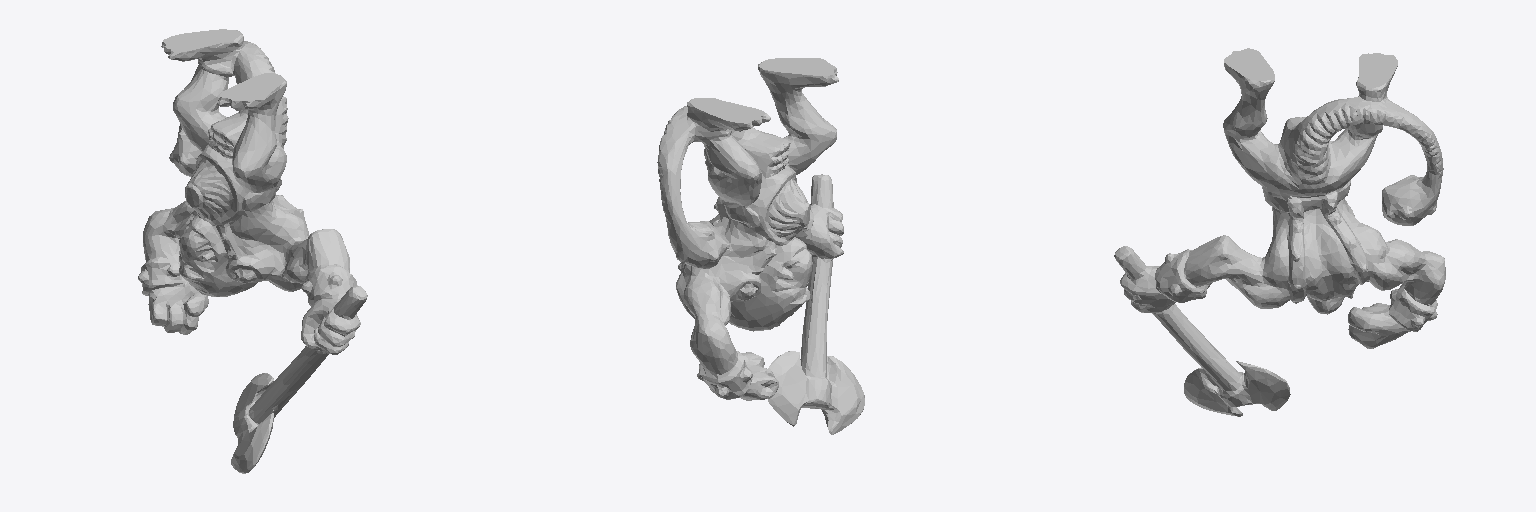
File: fimir.obj
3 renders of one model, left to right at view 1: azimuth 30°, elevation 25°; view 2: azimuth 150°, elevation 25°; view 3: azimuth 270°, elevation 25°, orthographic.
Bounding box in the file's own units: 1.98 × 5.91 × 4.86.